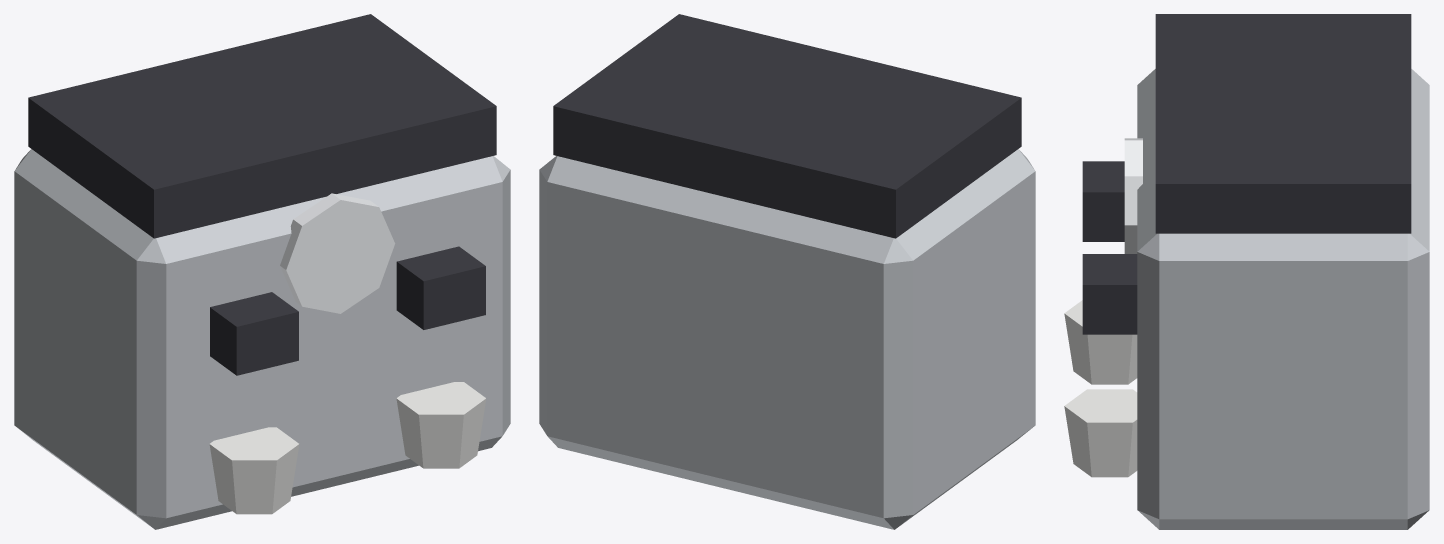
File: EspressoMachine.fbx
3 views of the same model, side by side, from view 1: azimuth 30°, elevation 25°; view 2: azimuth 150°, elevation 25°; view 3: azimuth 270°, elevation 25° (orthographic).
Visible parts, largest first — view 1: EspressoMachine; view 2: EspressoMachine; view 3: EspressoMachine.
Part boxes in pixels (box(x1,y1,x2,y2)): EspressoMachine: box(14, 14, 510, 529); EspressoMachine: box(539, 14, 1035, 529); EspressoMachine: box(1064, 14, 1429, 529).
Size of the model in its own units: 2.4 by 2.1 by 2.
Materials: 1 (1 with a texture image).
